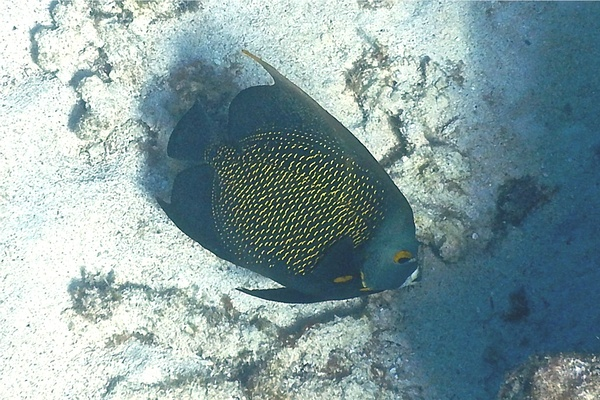Pomacanthus_paru: (150, 37, 440, 311)
